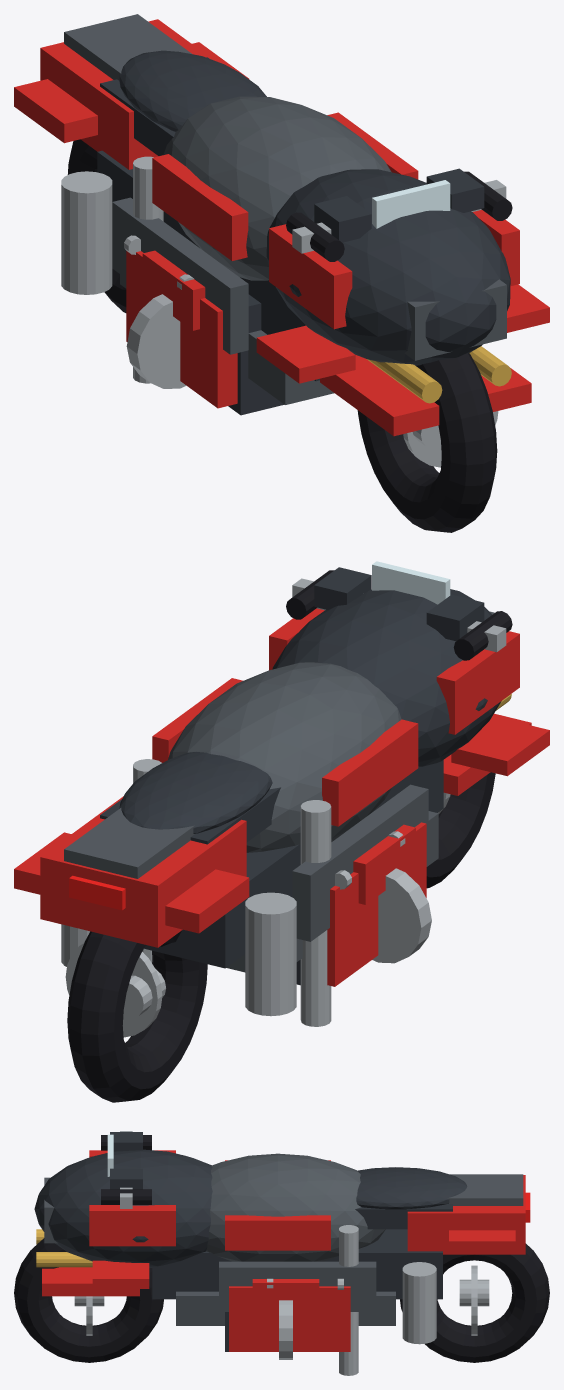
File: juggernaut_bike.glb
3 renders of one model, top to bottom at view 1: azimuth 30°, elevation 25°; view 2: azimuth 150°, elevation 25°; view 3: azimuth 270°, elevation 25°, orthographic. The views are drawn at different scales.
Parts seen in each view (by area): view 1: Front armored fairing, Armored fuel tank, Front tire, Seat, Side armor -1, Exhaust muffler -1, Front fender, Rear tail armor, Engine armor -1, Tank red panel -1, Front red panel -1, Tail center (+23 smaller); view 2: Armored fuel tank, Front armored fairing, Rear tire, Rear tail armor, Seat, Main frame, Side armor -1, Exhaust muffler -1, Tank red panel -1, Engine armor -1, Tail center, Front red panel -1 (+22 smaller); view 3: Front armored fairing, Armored fuel tank, Front tire, Rear tire, Engine armor 1, Main frame, Side armor 1, Rear tail armor, Seat, Tank red panel 1, Front red panel 1, Exhaust muffler 1 (+16 smaller).
Boxes of the visible parts, x1,y1,x2,y2 form: Front armored fairing: [266, 169, 510, 365]; Armored fuel tank: [163, 96, 391, 280]; Front tire: [357, 353, 497, 532]; Seat: [119, 50, 266, 131]; Side armor -1: [112, 197, 248, 354]; Exhaust muffler -1: [61, 171, 112, 294]; Front fender: [320, 355, 531, 436]; Rear tail armor: [40, 19, 213, 169]; Engine armor -1: [126, 251, 237, 408]; Tank red panel -1: [152, 154, 248, 260]; Front red panel -1: [269, 224, 352, 329]; Tail center: [64, 14, 192, 80]; Armored fuel tank: [168, 662, 401, 852]; Front armored fairing: [272, 589, 501, 766]; Rear tire: [67, 930, 207, 1102]; Rear tail armor: [40, 796, 246, 947]; Seat: [119, 752, 272, 833]; Main frame: [144, 760, 443, 968]; Side armor -1: [292, 784, 428, 941]; Exhaust muffler -1: [245, 892, 296, 1016]; Tank red panel -1: [322, 719, 418, 826]; Engine armor -1: [327, 822, 426, 986]; Tail center: [64, 808, 194, 878]; Front red panel -1: [436, 631, 519, 734]; Front armored fairing: [34, 1149, 212, 1267]; Armored fuel tank: [206, 1153, 385, 1261]; Front tire: [14, 1238, 163, 1362]; Rear tire: [400, 1243, 549, 1362]; Engine armor 1: [229, 1286, 350, 1351]; Main frame: [152, 1229, 442, 1299]; Side armor 1: [219, 1261, 376, 1311]; Rear tail armor: [407, 1175, 525, 1254]; Seat: [356, 1167, 467, 1209]; Tank red panel 1: [225, 1215, 330, 1250]; Front red panel 1: [89, 1205, 175, 1246]; Exhaust muffler 1: [402, 1262, 436, 1344].
Size of the model in its own units: 2.88 by 3.02 by 6.82.
